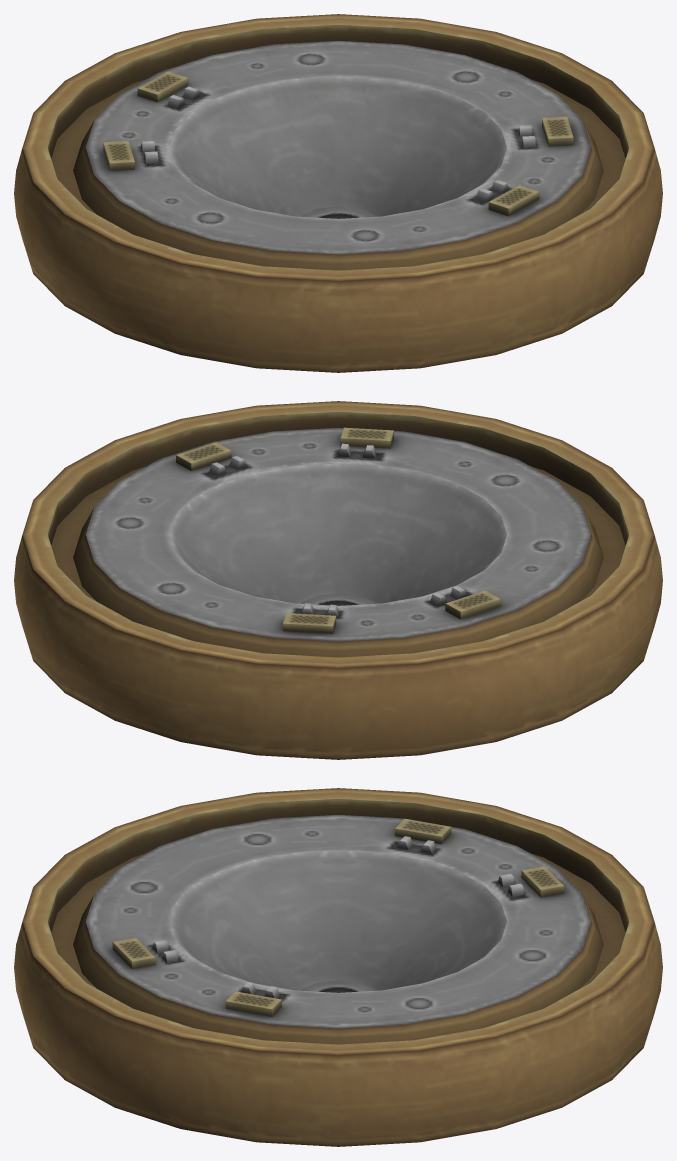
File: octans_docking_port_s0p5_2_female.obj
3 renders of one model, top to bottom at view 1: azimuth 30°, elevation 25°; view 2: azimuth 150°, elevation 25°; view 3: azimuth 270°, elevation 25°, orthographic.
Visible parts, largest first — view 1: mesh; view 2: mesh; view 3: mesh.
Part boxes in pixels (x1,y1,x2,y2): mesh: [14, 14, 662, 372]; mesh: [14, 401, 662, 759]; mesh: [14, 788, 662, 1146].
Bounding box in the file's own units: 0.9625 × 0.1625 × 0.9625.
